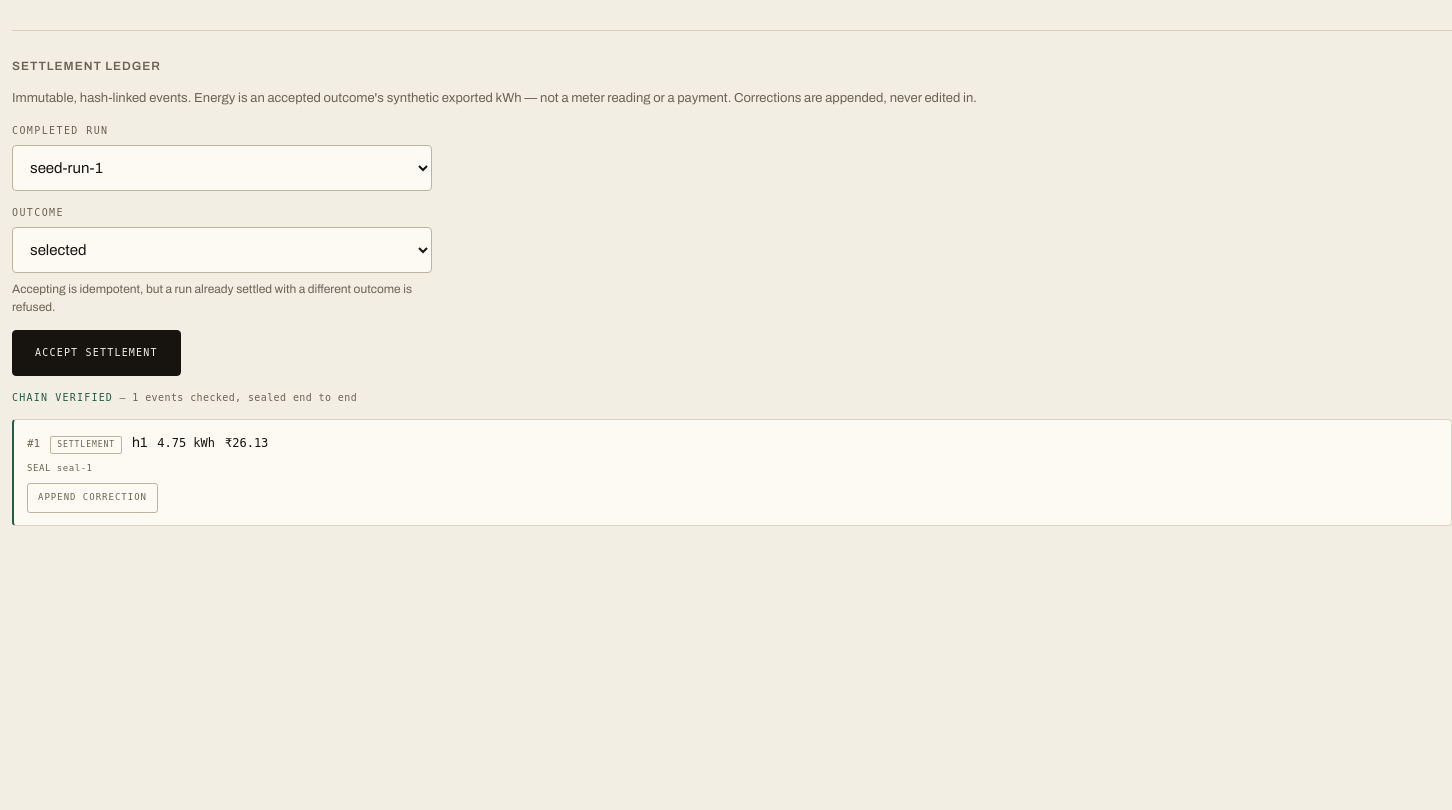
Test case: LedgerPanel settlement › says plainly when nothing was appended because it was already settled
Click the button "ACCEPT SETTLEMENT": (96, 352) top-left (12, 330), bottom-right (181, 376)
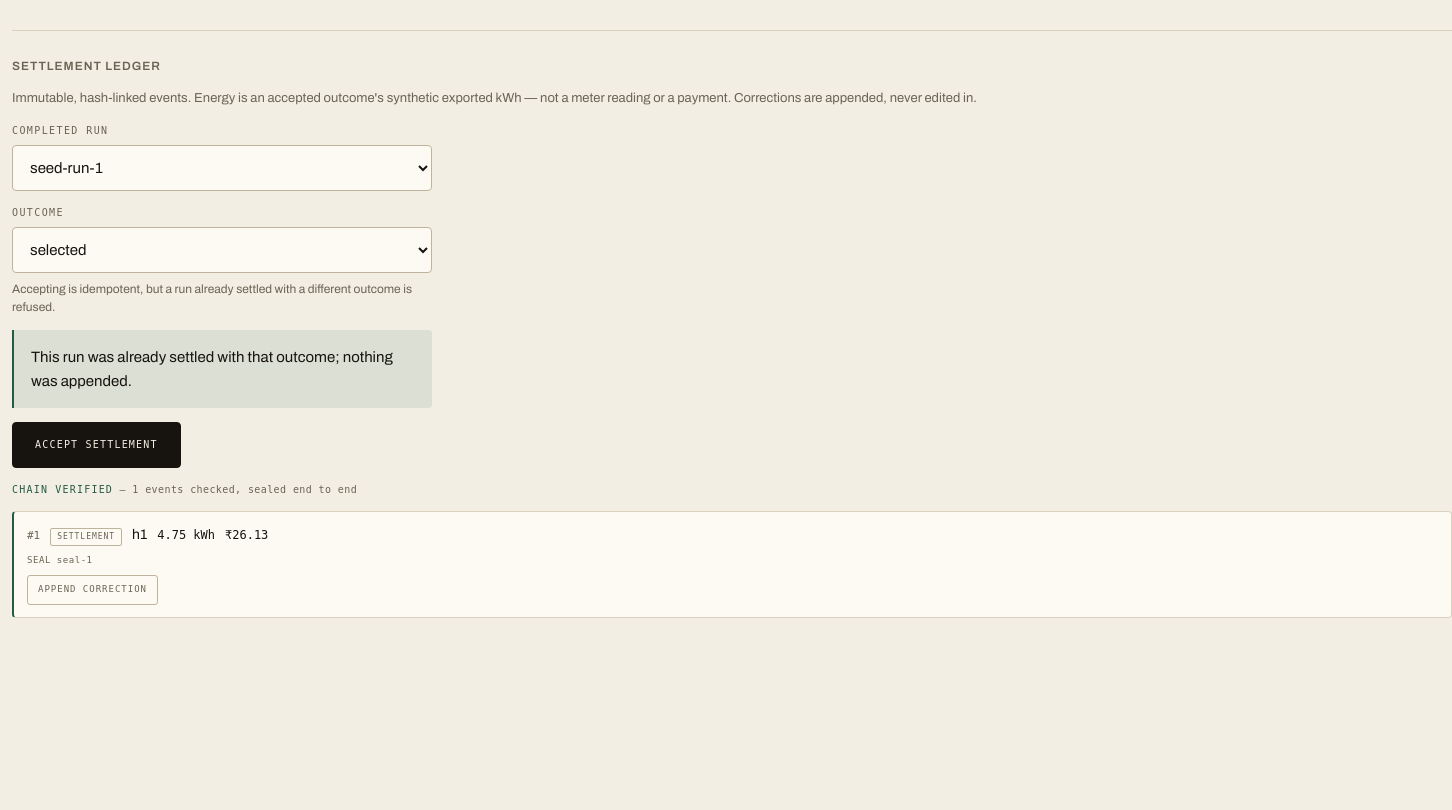
expect the message shows "already settled": met, box top-left (31, 348), bottom-right (393, 388)
